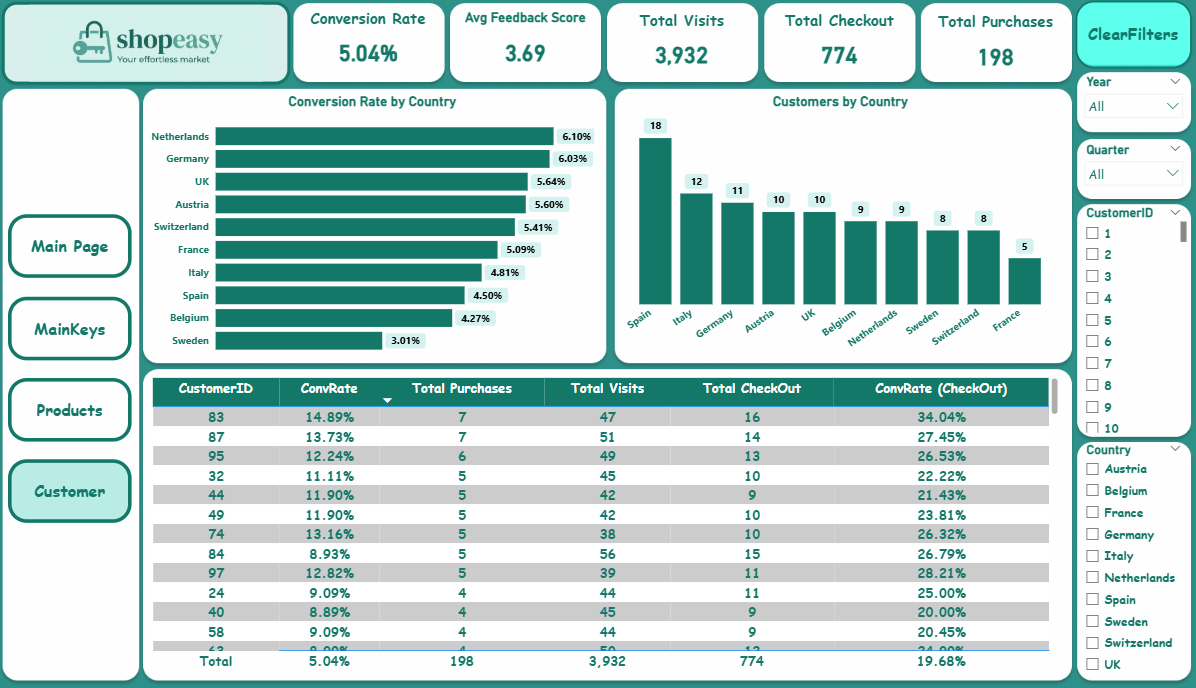

What the dashboard file says about the page in this screenshot:
{"tool":"powerbi","page":{"name":"Customer","canvas":[1600,920],"ordinal":3},"visuals":[{"type":"slicer","fields":{"Values":["CalendarTable.Year"]},"box":[1438.3,96.7,151.7,81.7],"z":0},{"type":"slicer","fields":{"Values":["CalendarTable.Quarter"]},"box":[1438.3,186.7,151.7,85],"z":1000},{"type":"slicer","fields":{"Values":["customers.Country"]},"box":[1438.3,586.7,151.7,325],"z":2000},{"type":"card","title":"Total Visits","fields":{"Values":["MainMeasures.Total Visits"]},"box":[811.4,14.3,200,95.7],"z":3000},{"type":"card","title":"Conversion Rate","fields":{"Values":["MainMeasures.Conversion Rate"]},"box":[393.3,11.7,200,95],"z":4000},{"type":"card","title":"Total Purchases","fields":{"Values":["MainMeasures.Total Purchases"]},"box":[1230,17.1,200,95.7],"z":5000},{"type":"card","title":"Total Checkout","fields":{"Values":["MainMeasures.Total CheckOut"]},"box":[1021.4,14.3,200,95.7],"z":6000},{"type":"slicer","fields":{"Values":["customer_journey.CustomerID"]},"box":[1438.3,271.7,151.7,313.3],"z":7000},{"type":"card","title":"Avg Feedback Score","fields":{"Values":["MainMeasures.Avg Feedback Score"]},"box":[602.9,15.7,200,95.7],"z":8000},{"type":"image","box":[5,5,385,110],"z":9000},{"type":"actionButton","box":[13.3,288.9,165,85],"z":10000},{"type":"actionButton","box":[13.3,397.8,165,85],"z":11000},{"type":"actionButton","box":[13.3,615.6,165,85],"z":12000},{"type":"actionButton","box":[13.3,506.7,165,85],"z":13000},{"type":"actionButton","box":[1436.7,3.3,155,90],"z":14000},{"type":"tableEx","fields":{"Values":["customers.CustomerID","MainMeasures.ConvRate","MainMeasures.Total Purchases","MainMeasures.Total Visits","MainMeasures.Total CheckOut","MainMeasures.ConvRate (CheckOut)"]},"box":[200,501.7,1218.3,400],"z":15000},{"type":"barChart","title":"Conversion Rate by Country","fields":{"Y":["MainMeasures.ConvRate"],"Category":["customers.Country"]},"box":[198.3,126.7,601.7,360],"z":16000},{"type":"columnChart","title":"Customers by Country","fields":{"Y":["MainMeasures.CustomerNumber"],"Category":["customers.Country"]},"box":[828.3,126.7,590,360],"z":17000}]}

Visuals, with their boxes in screenshot pixels (x1, y1, x2, y2), scaled from the page's 1600x920 canvas onto the 1196x688 screenshot:
slicer - CalendarTable.Year: x1=1075 y1=72 x2=1189 y2=133
slicer - CalendarTable.Quarter: x1=1075 y1=140 x2=1189 y2=203
slicer - customers.Country: x1=1075 y1=439 x2=1189 y2=682
"Total Visits" card: x1=607 y1=11 x2=756 y2=82
"Conversion Rate" card: x1=294 y1=9 x2=443 y2=80
"Total Purchases" card: x1=919 y1=13 x2=1069 y2=84
"Total Checkout" card: x1=763 y1=11 x2=913 y2=82
slicer - customer_journey.CustomerID: x1=1075 y1=203 x2=1189 y2=437
"Avg Feedback Score" card: x1=451 y1=12 x2=600 y2=83
image: x1=4 y1=4 x2=292 y2=86
actionButton: x1=10 y1=216 x2=133 y2=280
actionButton: x1=10 y1=297 x2=133 y2=361
actionButton: x1=10 y1=460 x2=133 y2=524
actionButton: x1=10 y1=379 x2=133 y2=442
actionButton: x1=1074 y1=2 x2=1190 y2=70
tableEx - customers.CustomerID x MainMeasures.ConvRate: x1=150 y1=375 x2=1060 y2=674
"Conversion Rate by Country" barChart: x1=148 y1=95 x2=598 y2=364
"Customers by Country" columnChart: x1=619 y1=95 x2=1060 y2=364
